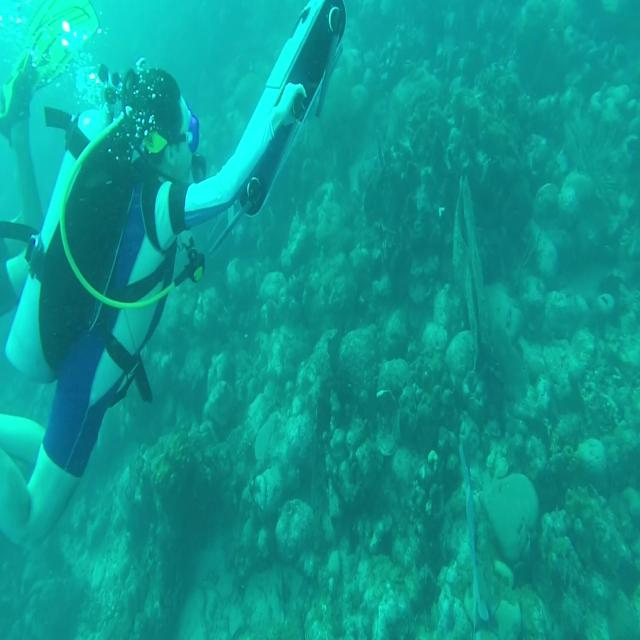human: (1, 0, 345, 548)
